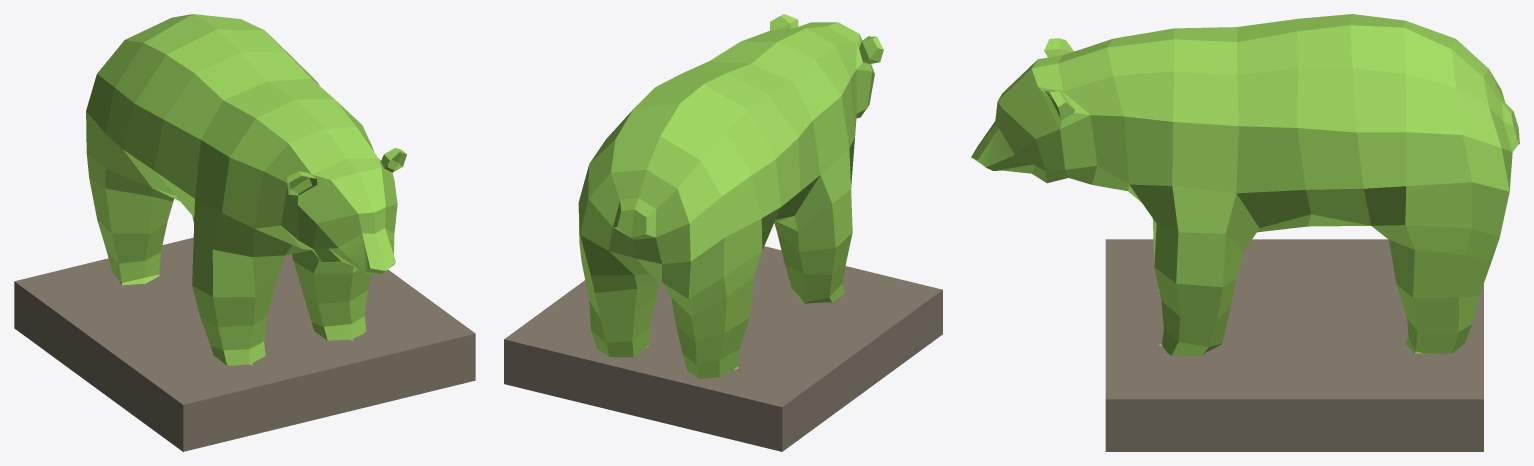
File: Bear.gltf
3 views of the same model, side by side, from view 1: azimuth 30°, elevation 25°; view 2: azimuth 150°, elevation 25°; view 3: azimuth 270°, elevation 25° (orthographic). The views are drawn at different scales.
Parts seen in each view (by area): view 1: buffer-0-mesh-0, Box; view 2: buffer-0-mesh-0, Box; view 3: buffer-0-mesh-0, Box.
Boxes of the visible parts, left/top/right/bottom form: buffer-0-mesh-0: left=86, top=14, right=406, bottom=365; Box: left=14, top=237, right=475, bottom=451; buffer-0-mesh-0: left=578, top=14, right=883, bottom=378; Box: left=504, top=246, right=942, bottom=451; buffer-0-mesh-0: left=971, top=14, right=1519, bottom=355; Box: left=1105, top=239, right=1483, bottom=451.
Size of the model in its own units: 1 by 1.01 by 1.45.
